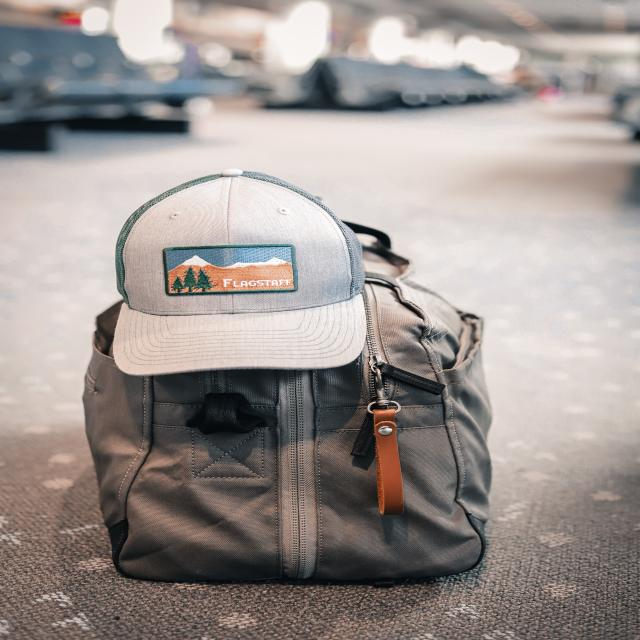backpack: (94, 232, 496, 588)
